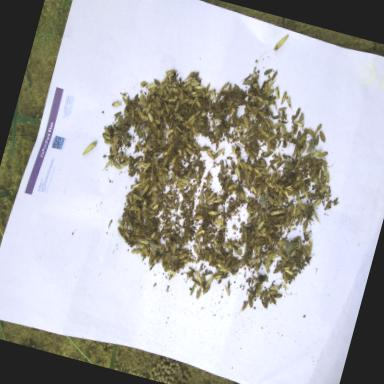pbw: (284, 96, 296, 112), (190, 244, 203, 258), (182, 70, 195, 84), (257, 251, 269, 266), (135, 208, 146, 224), (239, 226, 250, 242), (148, 195, 158, 212), (177, 87, 187, 104), (194, 272, 206, 286), (220, 283, 232, 297), (240, 114, 252, 128), (244, 294, 255, 309), (273, 238, 288, 249), (136, 174, 145, 192), (130, 198, 140, 214), (169, 70, 179, 86), (205, 86, 217, 99), (119, 130, 130, 144), (264, 247, 278, 258), (120, 158, 131, 172), (172, 112, 186, 123), (254, 95, 268, 106), (206, 274, 216, 289), (162, 101, 172, 116), (227, 266, 239, 278), (180, 96, 192, 108), (250, 133, 262, 145), (248, 104, 260, 116), (146, 86, 158, 98), (130, 180, 142, 192), (179, 255, 192, 266), (270, 208, 284, 218), (256, 128, 270, 138), (302, 244, 312, 258), (280, 271, 290, 285), (140, 183, 150, 197), (100, 132, 114, 142), (168, 170, 178, 184), (322, 170, 332, 184), (266, 85, 276, 99), (198, 190, 207, 205), (204, 195, 216, 206), (219, 80, 230, 92), (254, 132, 265, 144), (190, 128, 201, 140), (134, 141, 145, 153), (140, 246, 151, 258), (258, 156, 269, 168), (135, 108, 146, 120), (312, 197, 322, 210), (252, 225, 262, 238), (272, 194, 282, 207), (262, 262, 272, 275), (146, 252, 154, 268), (256, 212, 264, 228), (256, 184, 264, 200), (220, 242, 234, 251), (147, 184, 156, 198), (128, 106, 137, 120), (251, 282, 260, 296), (205, 98, 214, 112), (102, 125, 113, 136), (265, 134, 276, 145), (276, 183, 287, 194), (228, 198, 238, 210), (131, 192, 143, 202), (219, 165, 229, 177), (260, 172, 270, 184), (288, 248, 298, 260), (280, 91, 288, 106), (317, 131, 327, 143), (274, 86, 282, 101), (216, 172, 226, 184), (160, 75, 170, 87), (162, 114, 172, 126), (260, 297, 270, 309), (233, 167, 243, 179), (232, 126, 244, 136), (170, 190, 180, 202), (164, 68, 176, 78), (262, 150, 274, 160), (315, 123, 325, 135), (187, 130, 196, 143), (190, 79, 203, 88), (266, 252, 274, 266), (277, 244, 285, 258), (214, 126, 222, 140), (232, 241, 246, 249), (111, 136, 119, 150), (242, 168, 250, 182), (137, 92, 145, 106), (300, 141, 308, 155), (256, 284, 263, 300), (195, 286, 203, 300), (251, 177, 262, 187), (120, 116, 130, 127), (210, 237, 220, 248), (195, 229, 206, 239), (290, 188, 300, 199), (318, 150, 329, 160), (266, 195, 276, 206), (213, 196, 224, 206), (238, 191, 249, 201), (116, 220, 127, 230), (319, 184, 329, 195), (110, 100, 122, 109), (188, 116, 197, 128), (262, 186, 271, 198), (230, 114, 239, 126), (273, 199, 285, 208), (269, 284, 281, 293), (154, 138, 166, 147), (166, 95, 178, 104), (199, 274, 208, 286), (271, 222, 283, 231), (300, 246, 309, 258), (190, 96, 198, 109), (297, 212, 305, 225), (160, 243, 168, 256), (258, 225, 266, 238), (162, 155, 170, 168), (324, 199, 332, 212), (240, 301, 248, 314), (306, 239, 314, 252), (216, 266, 229, 274), (296, 237, 304, 250), (171, 264, 181, 274), (266, 118, 276, 128), (313, 148, 323, 158), (268, 296, 278, 306), (206, 149, 216, 159), (248, 185, 258, 195), (302, 152, 312, 162), (164, 128, 174, 138), (145, 112, 155, 122), (228, 182, 238, 192), (282, 190, 292, 200), (146, 82, 156, 92), (151, 167, 161, 177), (178, 252, 188, 262), (294, 150, 304, 160), (140, 211, 150, 221), (230, 146, 240, 156), (148, 212, 158, 222), (190, 182, 200, 192), (254, 237, 265, 246), (237, 159, 246, 170), (126, 221, 135, 232), (155, 181, 164, 192), (127, 166, 136, 177), (121, 208, 130, 219), (130, 247, 141, 256), (121, 94, 130, 105), (163, 239, 174, 248), (294, 178, 303, 189), (238, 136, 249, 145), (184, 147, 195, 156), (284, 183, 295, 192), (255, 259, 262, 273), (170, 242, 177, 256), (255, 244, 262, 258), (224, 176, 231, 190), (310, 166, 317, 180), (294, 107, 301, 121), (288, 216, 295, 230), (262, 83, 270, 95), (132, 94, 140, 106), (138, 238, 150, 246), (133, 122, 141, 134), (226, 99, 234, 111), (255, 110, 267, 118), (270, 71, 278, 83), (168, 269, 176, 281), (257, 219, 265, 231), (324, 190, 332, 202), (232, 97, 244, 105), (164, 251, 172, 263), (224, 256, 232, 268), (134, 224, 142, 236), (320, 177, 328, 189), (131, 168, 139, 180), (210, 120, 218, 132), (280, 123, 288, 135), (159, 172, 167, 184), (143, 162, 151, 174), (146, 140, 158, 148), (110, 162, 122, 170), (276, 152, 284, 164), (236, 155, 243, 168), (173, 100, 180, 113), (116, 115, 123, 128), (314, 134, 321, 147), (112, 133, 122, 142), (253, 204, 262, 214), (246, 164, 256, 173), (263, 118, 272, 128), (154, 88, 164, 97), (306, 129, 316, 138), (163, 84, 172, 94), (321, 161, 329, 172), (275, 131, 283, 142), (180, 178, 191, 186), (266, 289, 277, 297), (234, 116, 242, 127), (298, 135, 306, 146), (214, 258, 225, 266), (104, 138, 115, 146), (196, 254, 204, 265), (142, 142, 150, 153), (246, 213, 254, 224), (162, 224, 173, 232), (116, 154, 127, 162), (266, 234, 274, 245), (116, 227, 124, 238), (199, 145, 210, 153), (189, 284, 196, 296), (111, 144, 118, 156), (112, 149, 118, 163), (260, 80, 267, 92), (134, 242, 146, 249), (118, 123, 130, 130), (123, 218, 130, 230), (140, 176, 147, 188), (167, 142, 174, 154), (246, 169, 252, 183), (218, 223, 227, 232), (139, 198, 148, 207), (191, 71, 200, 80), (246, 208, 256, 216), (214, 270, 224, 278), (170, 254, 180, 262), (177, 180, 187, 188), (269, 164, 279, 172), (310, 194, 320, 202), (184, 78, 192, 88), (262, 210, 270, 220), (202, 286, 210, 296), (272, 292, 282, 300), (280, 253, 290, 261), (191, 142, 201, 150), (140, 130, 148, 140), (200, 110, 210, 118), (218, 90, 228, 98), (268, 158, 278, 166), (263, 166, 271, 176), (254, 172, 262, 182), (174, 182, 184, 190), (253, 160, 263, 168), (114, 110, 122, 120), (289, 137, 299, 145), (178, 248, 188, 256), (273, 122, 283, 130), (284, 269, 294, 277), (152, 100, 162, 108), (192, 92, 202, 100), (242, 78, 252, 86), (212, 274, 222, 282), (166, 200, 176, 208), (194, 100, 204, 108), (249, 148, 259, 156), (166, 268, 176, 276), (166, 204, 176, 212), (185, 142, 195, 150), (276, 160, 284, 170), (113, 129, 123, 137), (194, 83, 204, 91), (264, 67, 272, 77), (302, 219, 308, 232), (282, 220, 289, 231), (249, 257, 260, 264), (284, 132, 291, 143), (165, 90, 172, 101), (303, 190, 310, 201), (204, 83, 211, 94), (162, 195, 170, 204), (266, 143, 272, 155), (272, 113, 280, 122), (259, 290, 265, 302), (125, 192, 131, 204), (240, 161, 248, 170), (294, 160, 300, 172), (190, 200, 196, 212), (156, 176, 164, 185), (243, 184, 252, 192), (206, 174, 212, 186), (197, 86, 206, 94), (270, 174, 276, 186), (150, 231, 156, 243), (302, 169, 308, 181), (315, 158, 324, 166), (313, 178, 322, 186), (146, 102, 152, 114), (145, 222, 151, 234), (247, 112, 256, 120), (298, 112, 304, 124), (143, 178, 150, 188), (154, 255, 161, 265), (263, 274, 270, 284), (207, 191, 214, 201), (248, 292, 255, 302), (213, 248, 223, 255), (255, 86, 262, 96), (234, 249, 244, 256), (169, 87, 179, 94), (293, 122, 304, 128), (128, 195, 134, 206), (292, 124, 298, 135), (226, 88, 234, 96), (154, 150, 162, 158), (174, 125, 182, 133), (298, 162, 306, 170), (318, 192, 326, 200), (142, 126, 150, 134), (266, 182, 274, 190), (268, 95, 276, 103), (148, 145, 156, 153), (152, 78, 160, 86), (282, 265, 291, 272), (139, 249, 146, 258), (255, 100, 264, 107), (245, 104, 254, 111), (278, 106, 287, 113), (122, 228, 132, 234), (168, 222, 178, 228), (148, 210, 158, 216), (136, 162, 146, 168), (210, 91, 216, 101), (235, 262, 241, 272), (208, 254, 214, 264), (159, 166, 169, 172), (306, 191, 312, 201), (216, 94, 222, 104), (282, 140, 288, 150), (280, 111, 286, 121), (317, 170, 323, 180), (216, 263, 226, 269), (162, 204, 168, 214), (174, 202, 180, 212), (164, 231, 172, 238), (144, 152, 152, 159), (248, 286, 255, 294), (250, 82, 258, 89), (121, 236, 129, 243), (233, 84, 241, 91), (249, 97, 257, 104), (291, 207, 297, 216), (227, 118, 232, 128), (142, 115, 149, 122), (212, 103, 219, 110), (166, 192, 174, 198), (264, 176, 270, 184), (239, 123, 247, 129), (202, 203, 210, 209), (166, 83, 174, 89), (160, 228, 168, 234), (236, 152, 242, 160), (152, 204, 158, 212), (320, 172, 326, 180), (312, 184, 318, 192), (297, 131, 302, 140), (164, 172, 168, 182), (196, 204, 201, 212), (142, 82, 148, 88), (216, 118, 222, 124), (108, 154, 114, 160), (188, 84, 192, 93), (168, 104, 174, 110), (224, 132, 230, 138), (186, 84, 190, 92), (269, 174, 273, 182), (128, 164, 136, 168), (226, 252, 231, 258), (228, 84, 232, 90), (202, 92, 206, 98)
